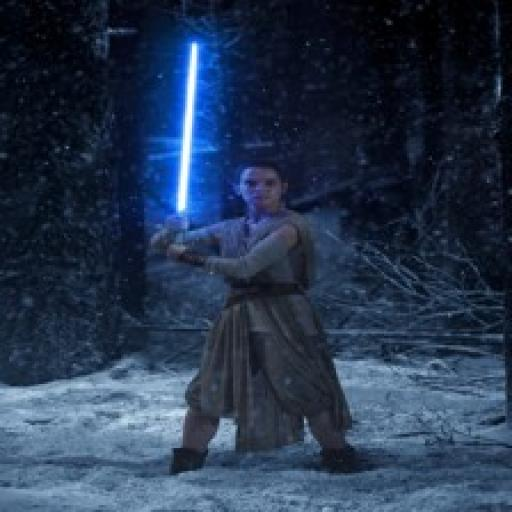human: (157, 156, 373, 479)
lightsaber: (166, 38, 208, 262)
